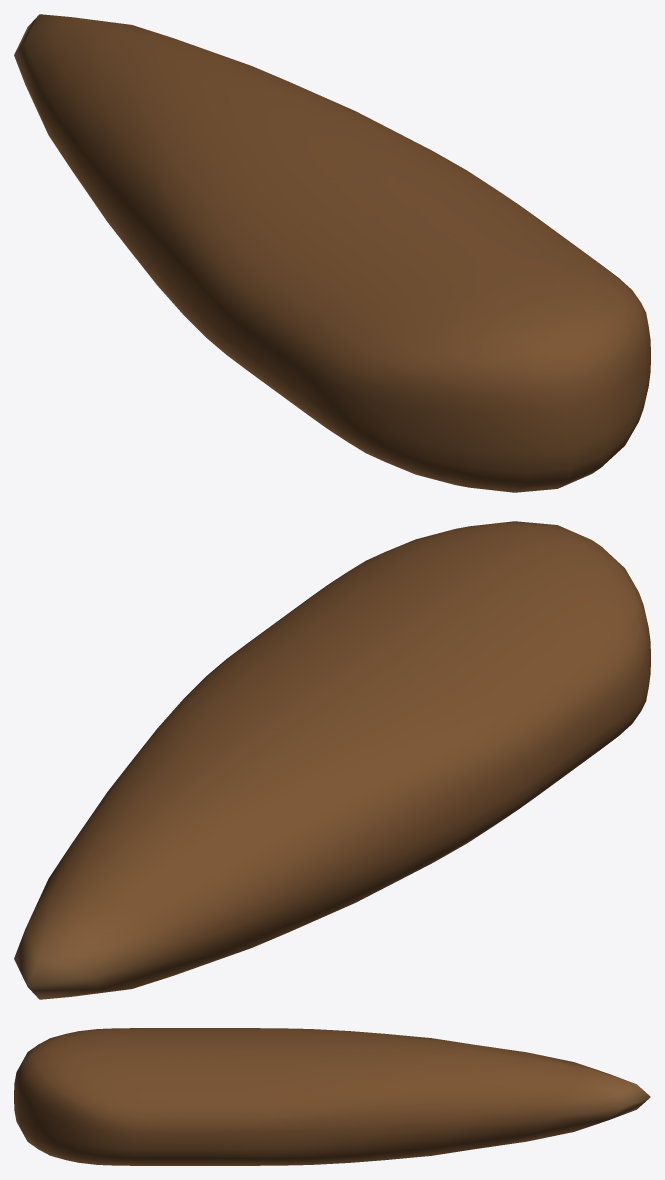
File: Pumpkin_Seed.fbx
3 renders of one model, top to bottom at view 1: azimuth 30°, elevation 25°; view 2: azimuth 150°, elevation 25°; view 3: azimuth 270°, elevation 25°, orthographic. The views are drawn at different scales.
Parts seen in each view (by area): view 1: Pumpkin Seed; view 2: Pumpkin Seed; view 3: Pumpkin Seed.
Boxes of the visible parts, bbox=[...] form: Pumpkin Seed: bbox=[14, 14, 650, 492]; Pumpkin Seed: bbox=[14, 521, 650, 999]; Pumpkin Seed: bbox=[14, 1028, 650, 1165].
Bounding box in the file's own units: 4.06 × 2.19 × 12.27.
